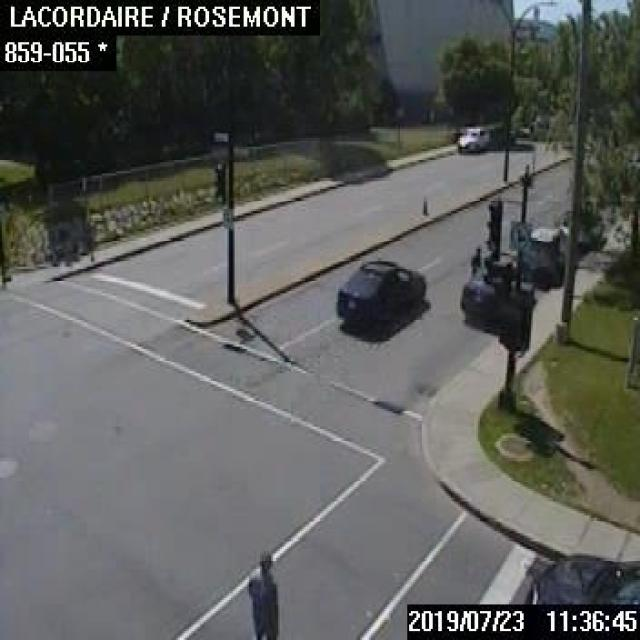pedestrian: (244, 551, 278, 638), (469, 245, 481, 275)
vehicle: (335, 258, 424, 326), (524, 549, 638, 602), (458, 258, 532, 328), (522, 227, 564, 279), (559, 209, 602, 245), (457, 125, 491, 150)
